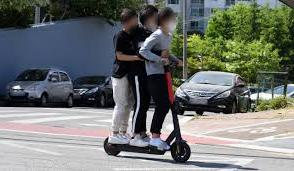multiple: (103, 4, 192, 161)
